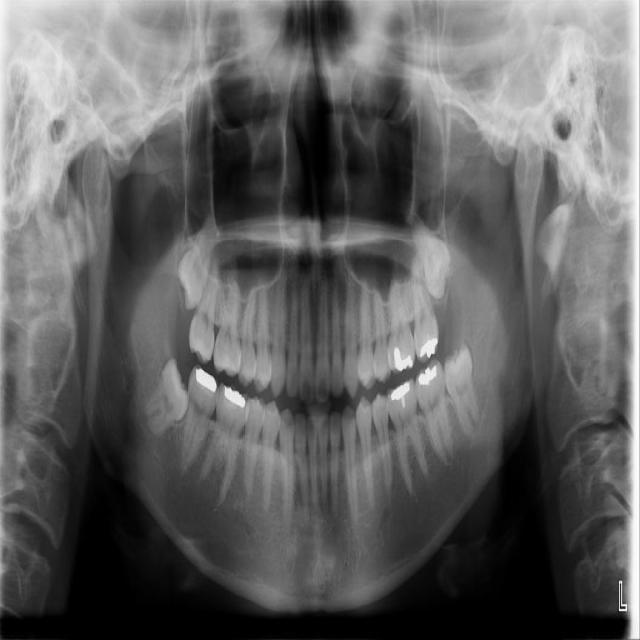Filling: (221, 386, 248, 412), (193, 370, 219, 391), (416, 335, 437, 360), (391, 383, 413, 406), (415, 364, 439, 385), (393, 348, 414, 370), (396, 345, 403, 352)
impacted tooth: (175, 211, 219, 313), (404, 213, 452, 298), (139, 358, 188, 433), (447, 344, 484, 435)
